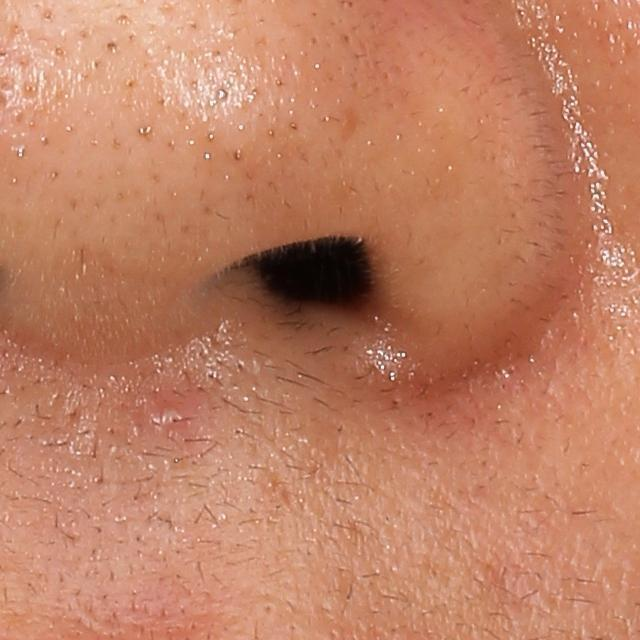comedo: (103, 37, 123, 57)
